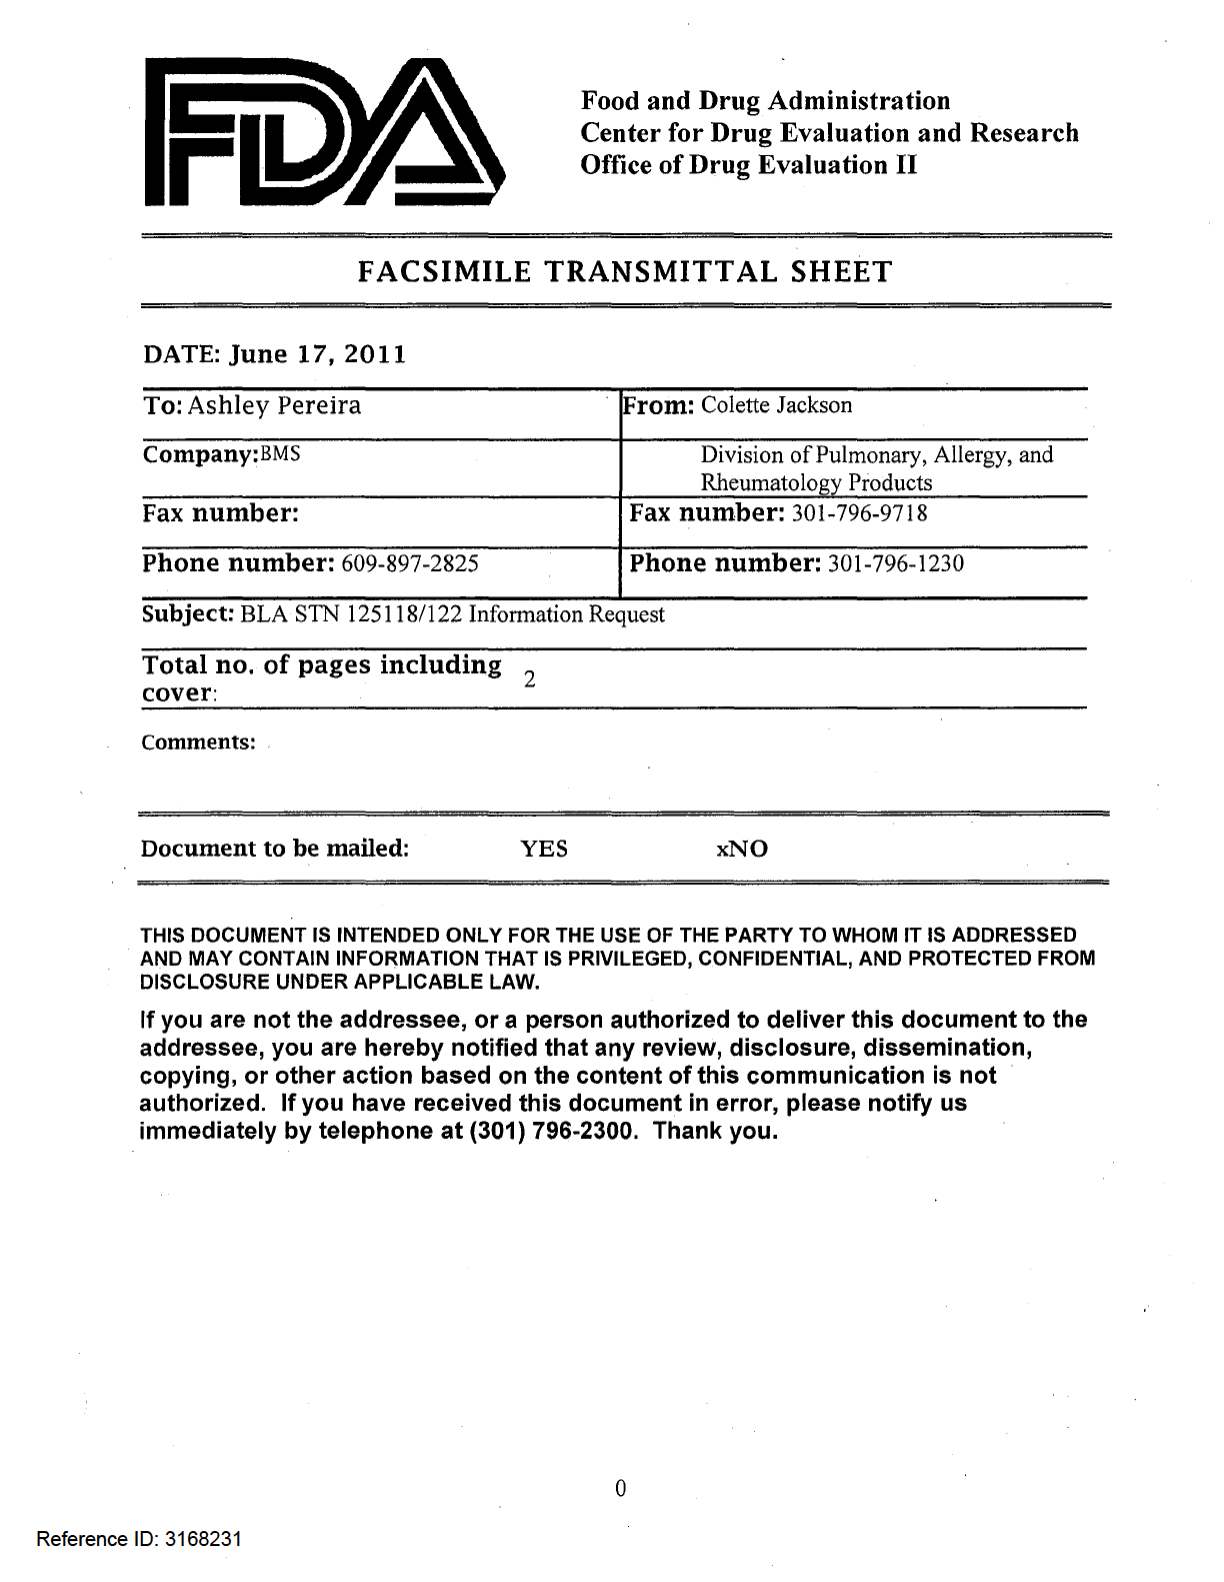partial_lined_merged_cells: (137, 300, 1115, 889)
